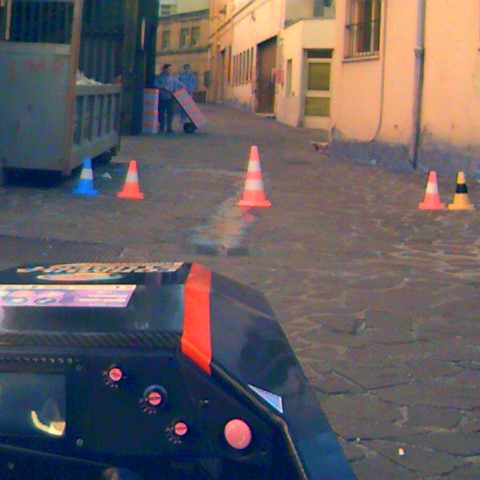cone: (70, 158, 99, 198)
